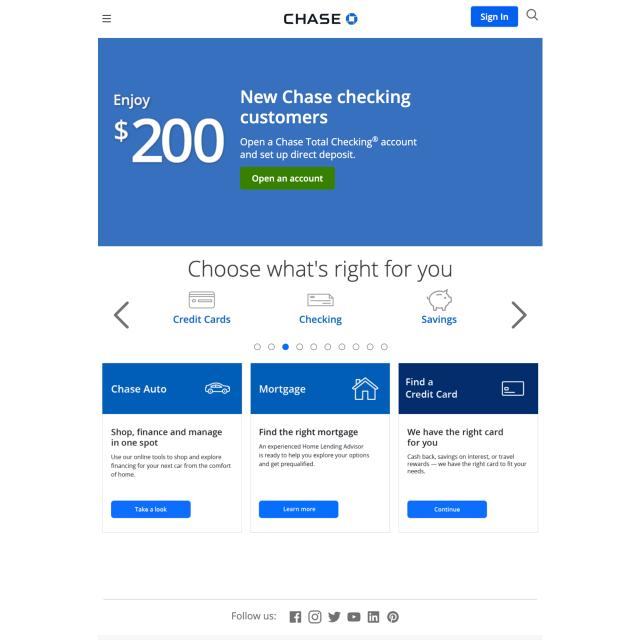footer: (104, 598, 539, 639)
logo: (281, 7, 361, 30)
navigation: (100, 12, 116, 26)
